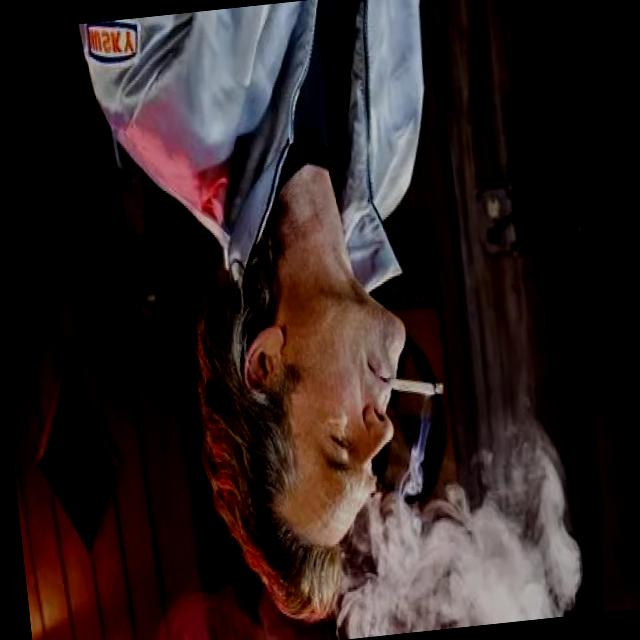cigarette: (384, 364, 450, 407)
